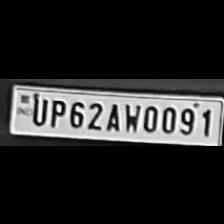0: (140, 101, 158, 131), (160, 102, 176, 132)
1: (196, 104, 214, 136)
2: (85, 98, 103, 130)
6: (66, 97, 84, 127)
9: (176, 104, 196, 134)
A: (104, 99, 120, 130)
P: (47, 96, 65, 126)
U: (28, 93, 46, 125)
W: (121, 99, 139, 131)
